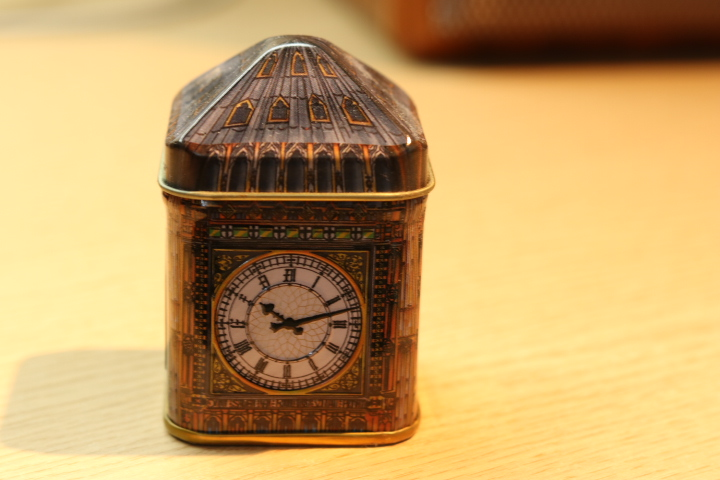Big Ben: (131, 27, 448, 462)
